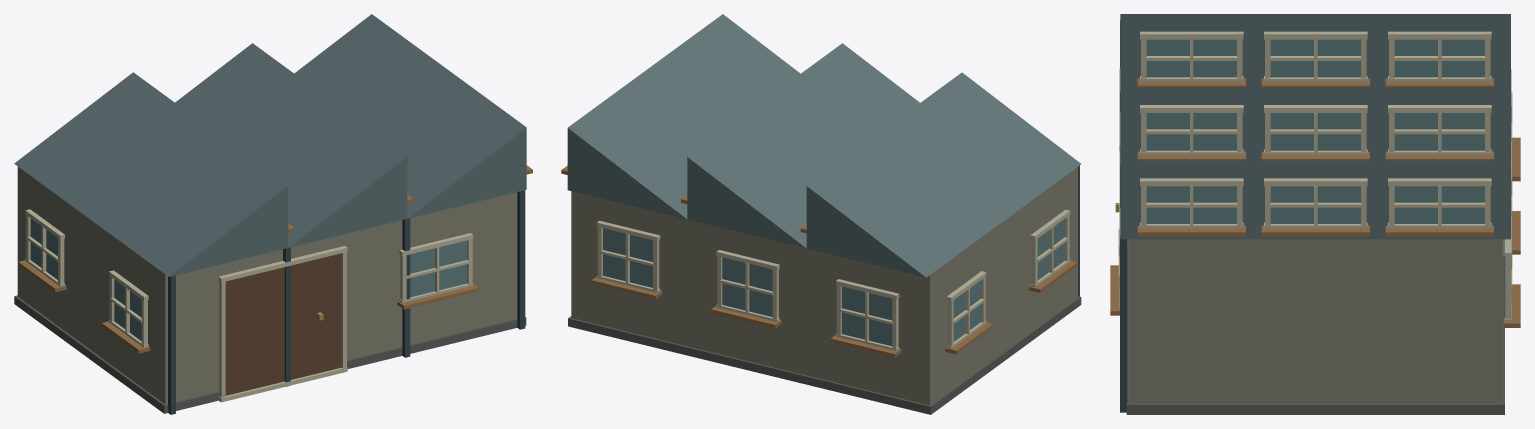
Rendered from Building_Settlement_SawtoothWorkshop_001.glb.
3 renders of one model, left to right at view 1: azimuth 30°, elevation 25°; view 2: azimuth 150°, elevation 25°; view 3: azimuth 270°, elevation 25°, orthographic. The views are drawn at different scales.
Parts seen in each view (by area): view 1: Building_Settlement_SawtoothWorkshop_001; view 2: Building_Settlement_SawtoothWorkshop_001; view 3: Building_Settlement_SawtoothWorkshop_001.
Part boxes in pixels (<box>): Building_Settlement_SawtoothWorkshop_001: <box>14,14,532,414</box>; Building_Settlement_SawtoothWorkshop_001: <box>561,14,1081,414</box>; Building_Settlement_SawtoothWorkshop_001: <box>1110,14,1520,414</box>.
Size of the model in its own units: 9.01 by 4.5 by 6.62.
